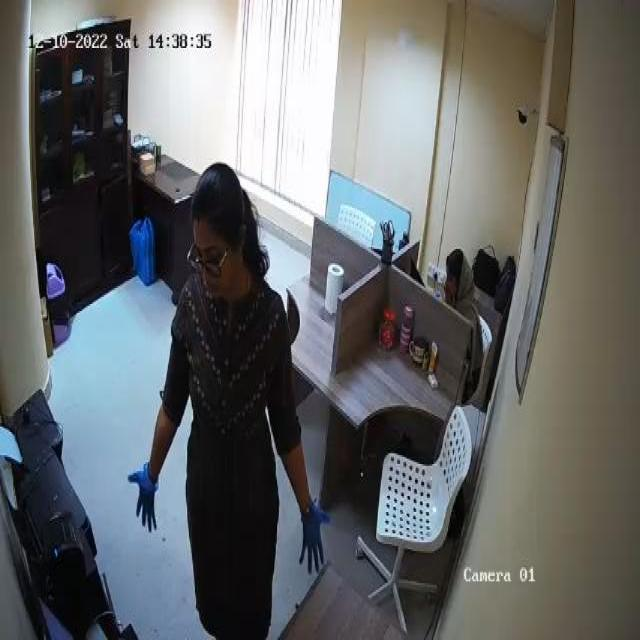gloved_hand: (296, 498, 334, 576), (127, 453, 161, 535)
